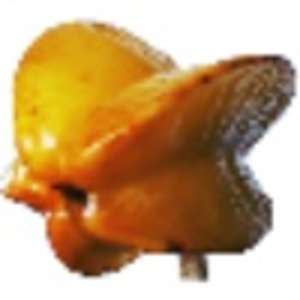carambola: (1, 18, 297, 283)
